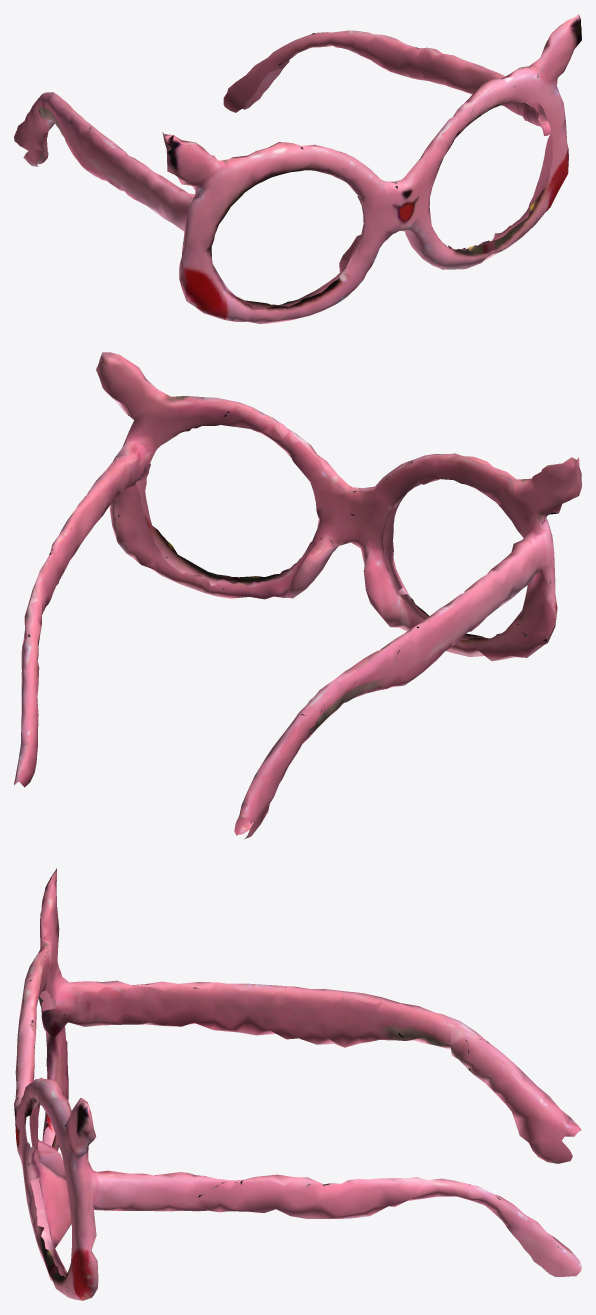
The model's file is scan_align.obj.
The picture shows the model from 3 angles, top to bottom: view 1: azimuth 30°, elevation 25°; view 2: azimuth 150°, elevation 25°; view 3: azimuth 270°, elevation 25°; orthographic projection. The views are drawn at different scales.
Size of the model in its own units: 0.1356 by 0.0651 by 0.1345.
1 material, 1 textured.
